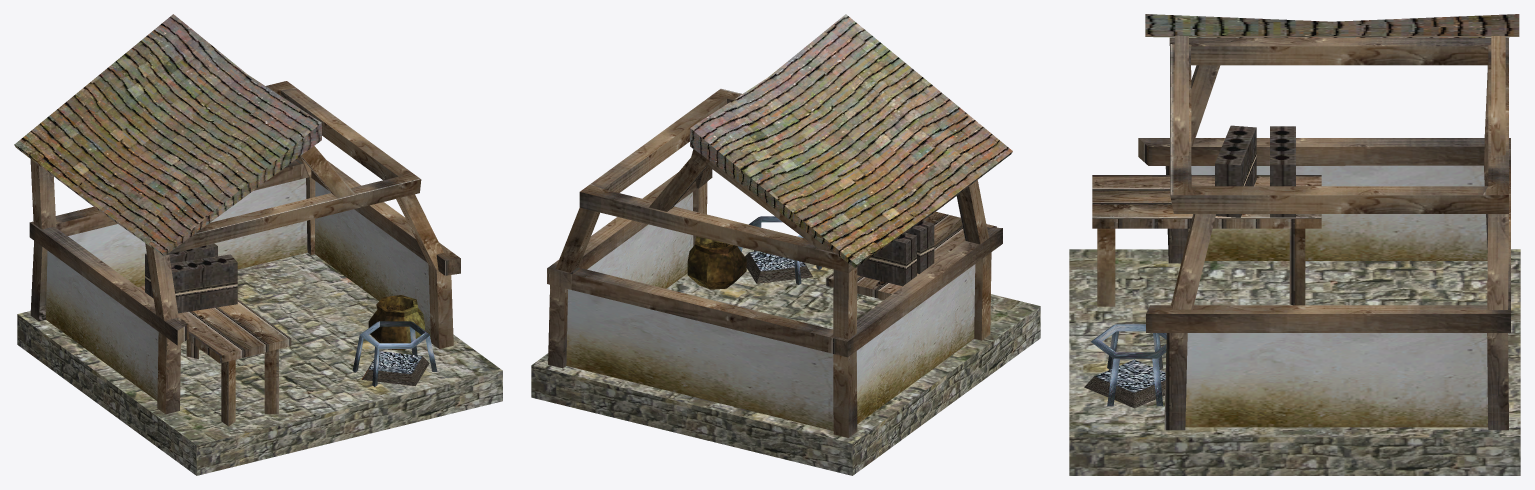
The picture shows the model from 3 angles, left to right: view 1: azimuth 30°, elevation 25°; view 2: azimuth 150°, elevation 25°; view 3: azimuth 270°, elevation 25°; orthographic projection. The views are drawn at different scales.
Visible parts, largest first — view 1: chandler_workshop.001; view 2: chandler_workshop.001; view 3: chandler_workshop.001.
Part boxes in pixels (box(x1,y1,x2,y2)): chandler_workshop.001: box(14, 14, 502, 475); chandler_workshop.001: box(531, 14, 1040, 475); chandler_workshop.001: box(1069, 14, 1520, 475).
Size of the model in its own units: 433 by 391 by 434.
7 materials, 7 textured.
